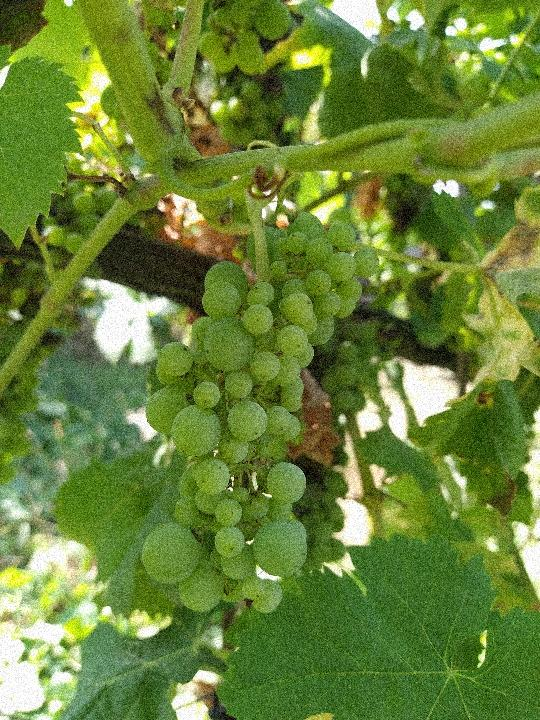grape: (140, 207, 382, 617)
